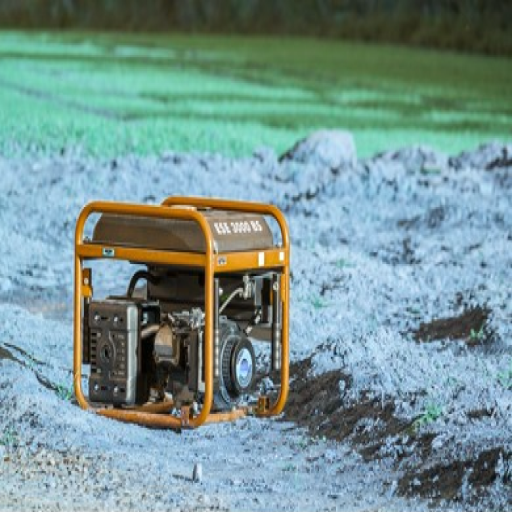portable_generator: (74, 196, 291, 430)
